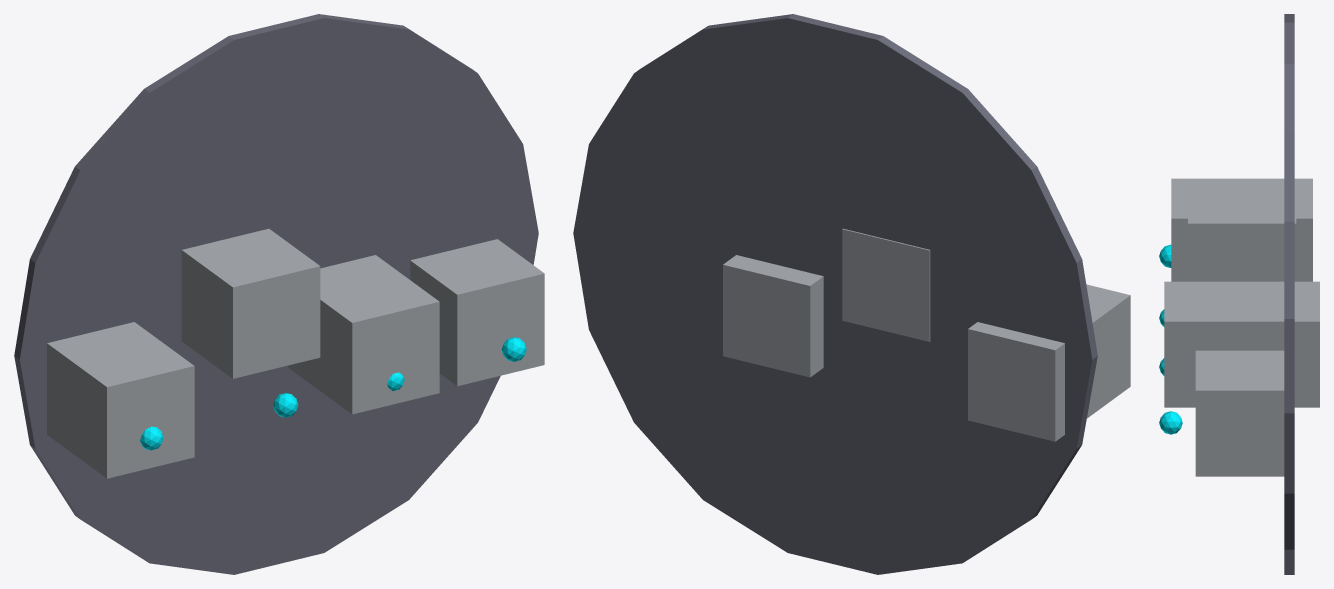
Rendered from 04_event_hazard_cluster.glb.
3 views of the same model, side by side, from view 1: azimuth 30°, elevation 25°; view 2: azimuth 150°, elevation 25°; view 3: azimuth 270°, elevation 25° (orthographic). The views are drawn at different scales.
Parts seen in each view (by area): view 1: scatter_base, tech_crate_0, tech_crate_1, tech_crate_2, tech_crate_3; view 2: scatter_base, tech_crate_0, tech_crate_2, tech_crate_1; view 3: tech_crate_2, tech_crate_3, tech_crate_1, scatter_base, tech_crate_0, status_light_3, status_light_0.
Boxes of the visible parts, x1=… form: scatter_base: x1=14, y1=14, x2=538, y2=574; tech_crate_0: x1=47, y1=322, x2=194, y2=478; tech_crate_1: x1=181, y1=228, x2=320, y2=378; tech_crate_2: x1=288, y1=255, x2=439, y2=414; tech_crate_3: x1=410, y1=239, x2=544, y2=386; scatter_base: x1=573, y1=14, x2=1097, y2=574; tech_crate_0: x1=968, y1=284, x2=1130, y2=441; tech_crate_2: x1=723, y1=255, x2=823, y2=377; tech_crate_1: x1=842, y1=228, x2=930, y2=341; tech_crate_2: x1=1164, y1=281, x2=1319, y2=407; tech_crate_3: x1=1195, y1=350, x2=1284, y2=476; tech_crate_1: x1=1188, y1=183, x2=1296, y2=281; scatter_base: x1=1284, y1=14, x2=1294, y2=574; tech_crate_0: x1=1171, y1=178, x2=1312, y2=281; status_light_3: x1=1159, y1=411, x2=1182, y2=434; status_light_0: x1=1159, y1=244, x2=1171, y2=267.
Bounding box in the file's own units: 1.9 × 1.87 × 0.5425.
